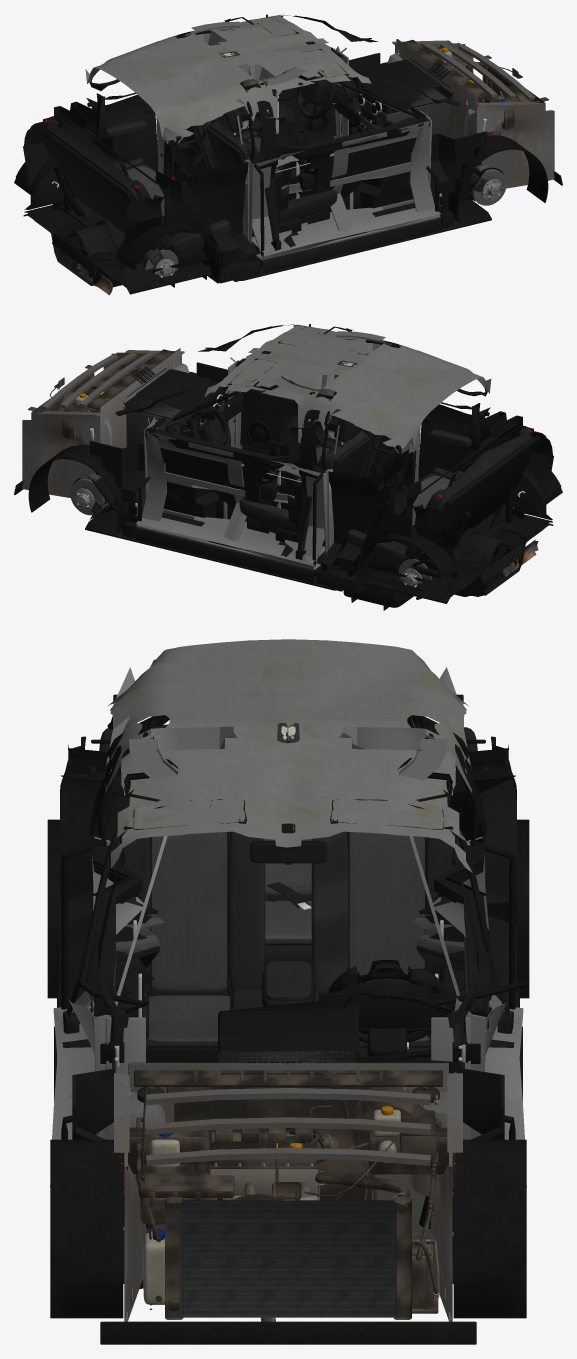
The model's file is sagui_completo.glb.
3 renders of one model, top to bottom at view 1: azimuth 30°, elevation 25°; view 2: azimuth 150°, elevation 25°; view 3: azimuth 270°, elevation 25°, orthographic. The views are drawn at different scales.
Visible parts, largest first — view 1: interior_forro_teto, door_card_fr_chapa, door_card_fr, interior_banco_traseiro, interior_lateral_traseira_dir, interior_painel, interior_portamalas_carpete, engine_paralama_interno_dir, interior_lateral_traseira_esq, under_assoalho, interior_banco_dianteiro_dir, engine_corta_fogo (+28 smaller); view 2: interior_forro_teto, door_card_fl_chapa, door_card_fl, interior_banco_traseiro, interior_lateral_traseira_esq, interior_portamalas_carpete, interior_painel, engine_paralama_interno_esq, interior_lateral_traseira_dir, door_card_fr, under_assoalho, interior_banco_dianteiro_esq (+27 smaller); view 3: interior_forro_teto, engine_radiador, interior_banco_dianteiro_dir, engine_corta_fogo, interior_banco_dianteiro_esq, interior_painel, under_caixa_roda_fl, under_caixa_roda_fr, hood_manta, engine_motor, under_saias, interior_lateral_traseira_dir (+27 smaller).
Part boxes in pixels (x1,y1,x2,y2): interior_forro_teto: [85, 15, 371, 150]; door_card_fr_chapa: [248, 116, 440, 260]; door_card_fr: [250, 117, 430, 248]; interior_banco_traseiro: [36, 117, 230, 263]; interior_lateral_traseira_dir: [155, 162, 256, 283]; interior_painel: [333, 58, 456, 137]; interior_portamalas_carpete: [23, 116, 163, 287]; engine_paralama_interno_dir: [464, 99, 554, 188]; interior_lateral_traseira_esq: [54, 94, 158, 220]; under_assoalho: [23, 199, 491, 294]; interior_banco_dianteiro_dir: [205, 108, 337, 251]; engine_corta_fogo: [396, 39, 490, 192]; interior_forro_teto: [205, 324, 491, 460]; door_card_fl_chapa: [135, 417, 329, 569]; door_card_fl: [145, 427, 326, 558]; interior_banco_traseiro: [346, 427, 540, 572]; interior_lateral_traseira_esq: [320, 471, 425, 589]; interior_portamalas_carpete: [410, 425, 553, 596]; interior_painel: [119, 366, 242, 446]; engine_paralama_interno_esq: [22, 409, 112, 497]; interior_lateral_traseira_dir: [418, 404, 522, 528]; door_card_fr: [240, 359, 408, 489]; under_assoalho: [85, 509, 553, 603]; interior_banco_dianteiro_esq: [239, 418, 371, 560]; interior_forro_teto: [105, 639, 472, 872]; engine_radiador: [165, 1197, 411, 1319]; interior_banco_dianteiro_dir: [115, 827, 265, 1048]; engine_corta_fogo: [128, 1062, 448, 1280]; interior_banco_dianteiro_esq: [311, 827, 461, 1059]; interior_painel: [146, 980, 474, 1074]; under_caixa_roda_fl: [453, 1139, 526, 1318]; under_caixa_roda_fr: [50, 1139, 123, 1318]; hood_manta: [146, 1071, 430, 1165]; engine_motor: [138, 1128, 377, 1321]; under_saias: [57, 984, 519, 1344]; interior_lateral_traseira_dir: [60, 744, 131, 1002].
Size of what is drawn, in the model's own units: 3.49 by 1.45 by 1.56.
55 materials, 55 textured.
